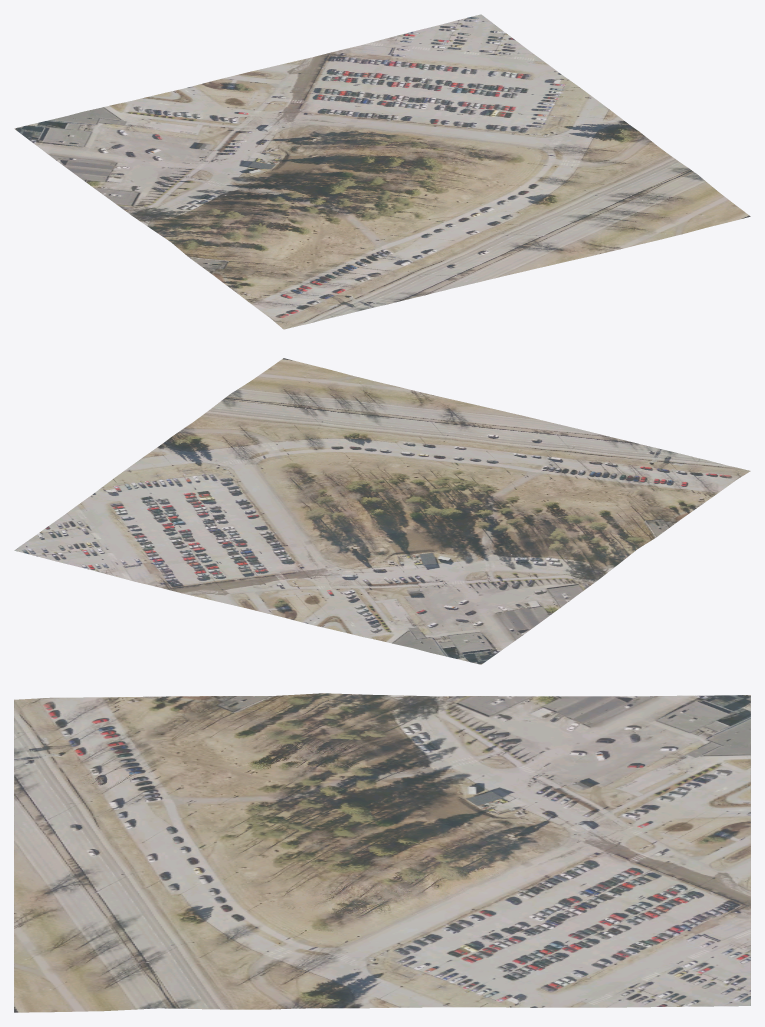
The model's file is CM_Terrain_24490254_6821636.fbx.
3 views of the same model, one above another, from view 1: azimuth 30°, elevation 25°; view 2: azimuth 150°, elevation 25°; view 3: azimuth 270°, elevation 25° (orthographic). The views are drawn at different scales.
Visible parts, largest first — view 1: CM_Terrain_24490254_6821636_LOD0; view 2: CM_Terrain_24490254_6821636_LOD0; view 3: CM_Terrain_24490254_6821636_LOD0.
Boxes of the visible parts, x1,y1,x2,y2 form: CM_Terrain_24490254_6821636_LOD0: (14,14,750,329); CM_Terrain_24490254_6821636_LOD0: (14,358,750,664); CM_Terrain_24490254_6821636_LOD0: (14,693,750,1012).
Size of what is drawn, in the model's own units: 205 by 5.43 by 205.
